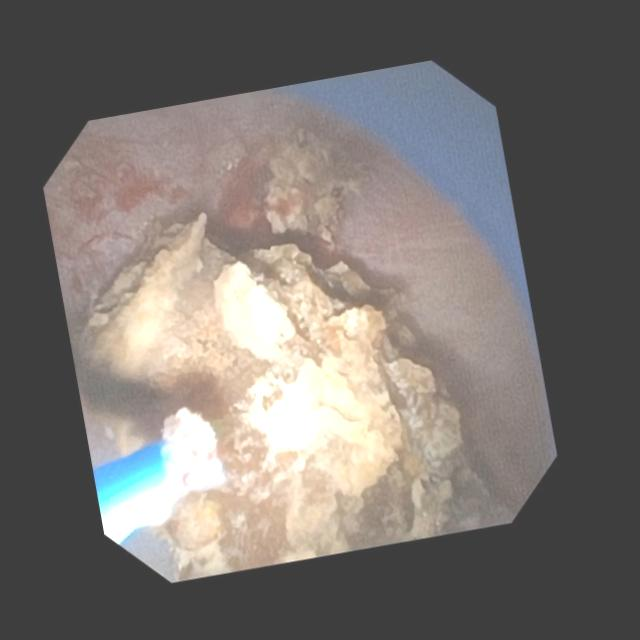stone-new: (81, 213, 488, 579), (263, 130, 360, 246)
